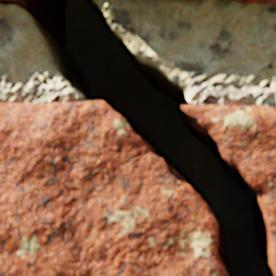brick: (225, 0, 275, 4), (177, 0, 201, 1)
broken_brick: (0, 101, 227, 275), (181, 105, 275, 275)
crack: (0, 0, 273, 275)
